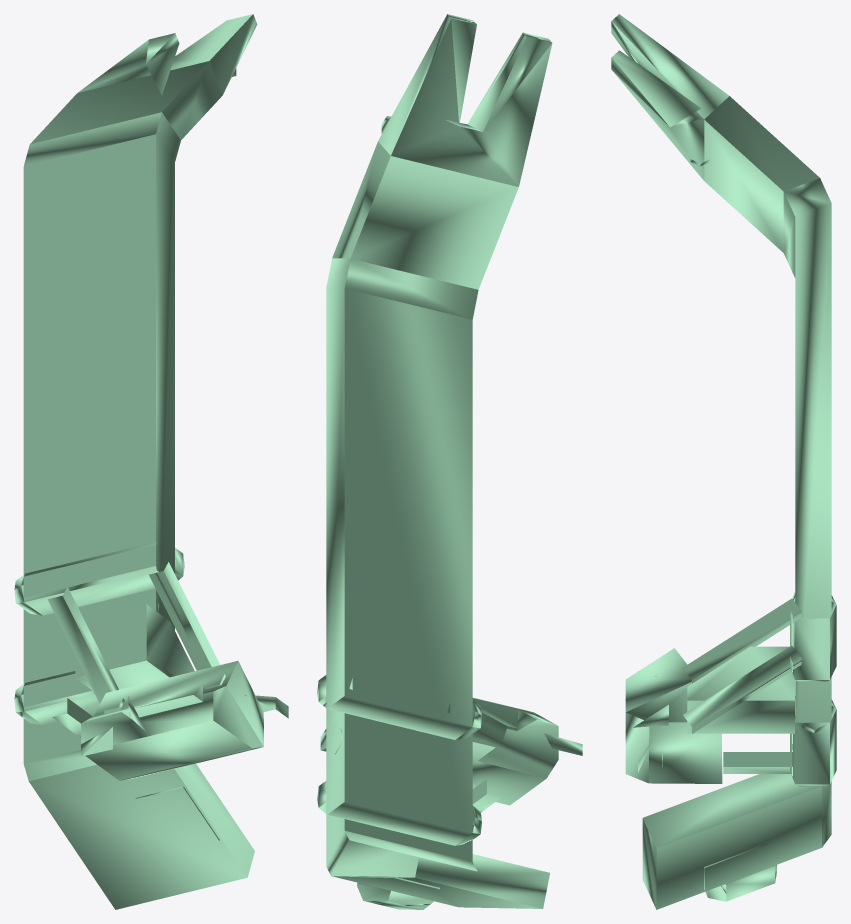
Rendered from faraday_cage002_a_lod4.glb.
The picture shows the model from 3 angles, left to right: view 1: azimuth 30°, elevation 25°; view 2: azimuth 150°, elevation 25°; view 3: azimuth 270°, elevation 25°; orthographic projection. The views are drawn at different scales.
Size of the model in its own units: 1.47 by 6.37 by 1.54.
